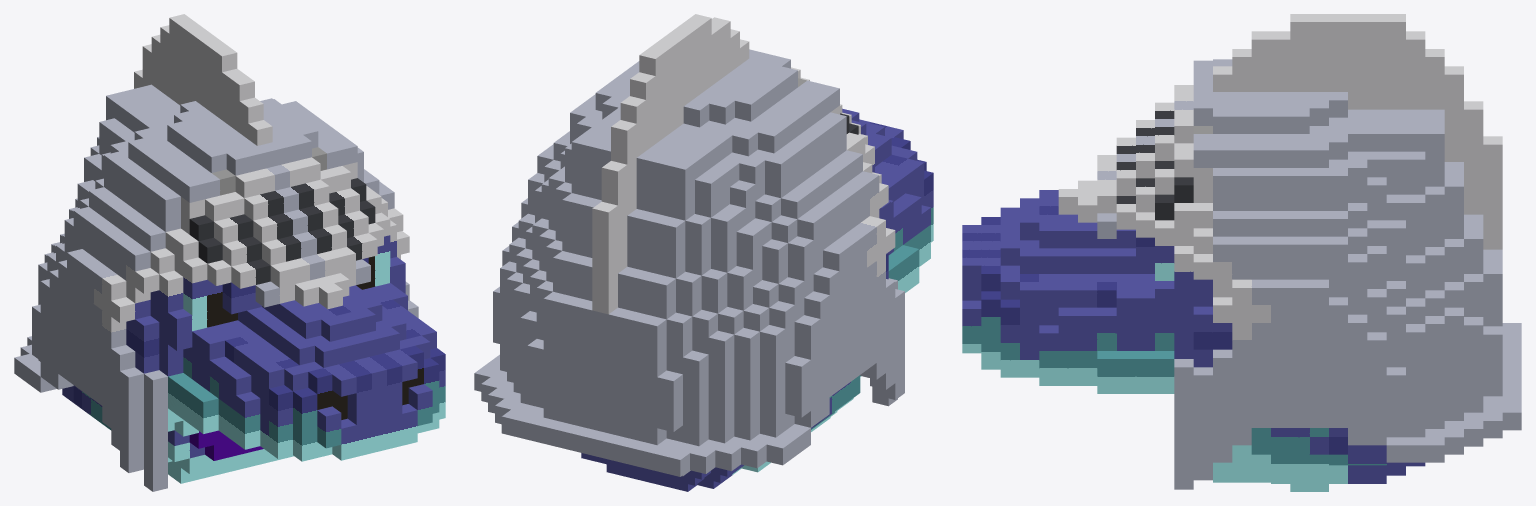
The model's file is knight helmet.gltf.
3 views of the same model, side by side, from view 1: azimuth 30°, elevation 25°; view 2: azimuth 150°, elevation 25°; view 3: azimuth 270°, elevation 25° (orthographic). The views are drawn at different scales.
Parts seen in each view (by area): view 1: 03_Zilla_Head_Knight_Helmet-Mesh; view 2: 03_Zilla_Head_Knight_Helmet-Mesh; view 3: 03_Zilla_Head_Knight_Helmet-Mesh.
Boxes of the visible parts, x1,y1,x2,y2 form: 03_Zilla_Head_Knight_Helmet-Mesh: (14,14,445,491); 03_Zilla_Head_Knight_Helmet-Mesh: (474,14,933,491); 03_Zilla_Head_Knight_Helmet-Mesh: (962,14,1521,491).
Bounding box in the file's own units: 19 × 25 × 29.
Materials: 1 (1 with a texture image).
